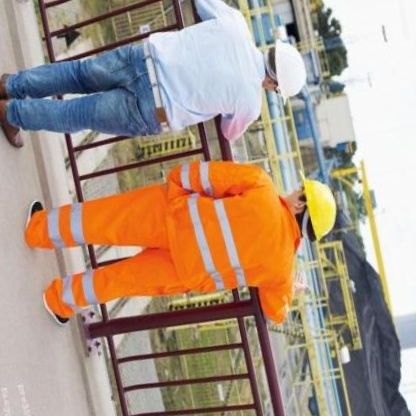vest: (156, 143, 308, 325)
white: (262, 28, 315, 111)
yellow: (290, 156, 347, 247)
